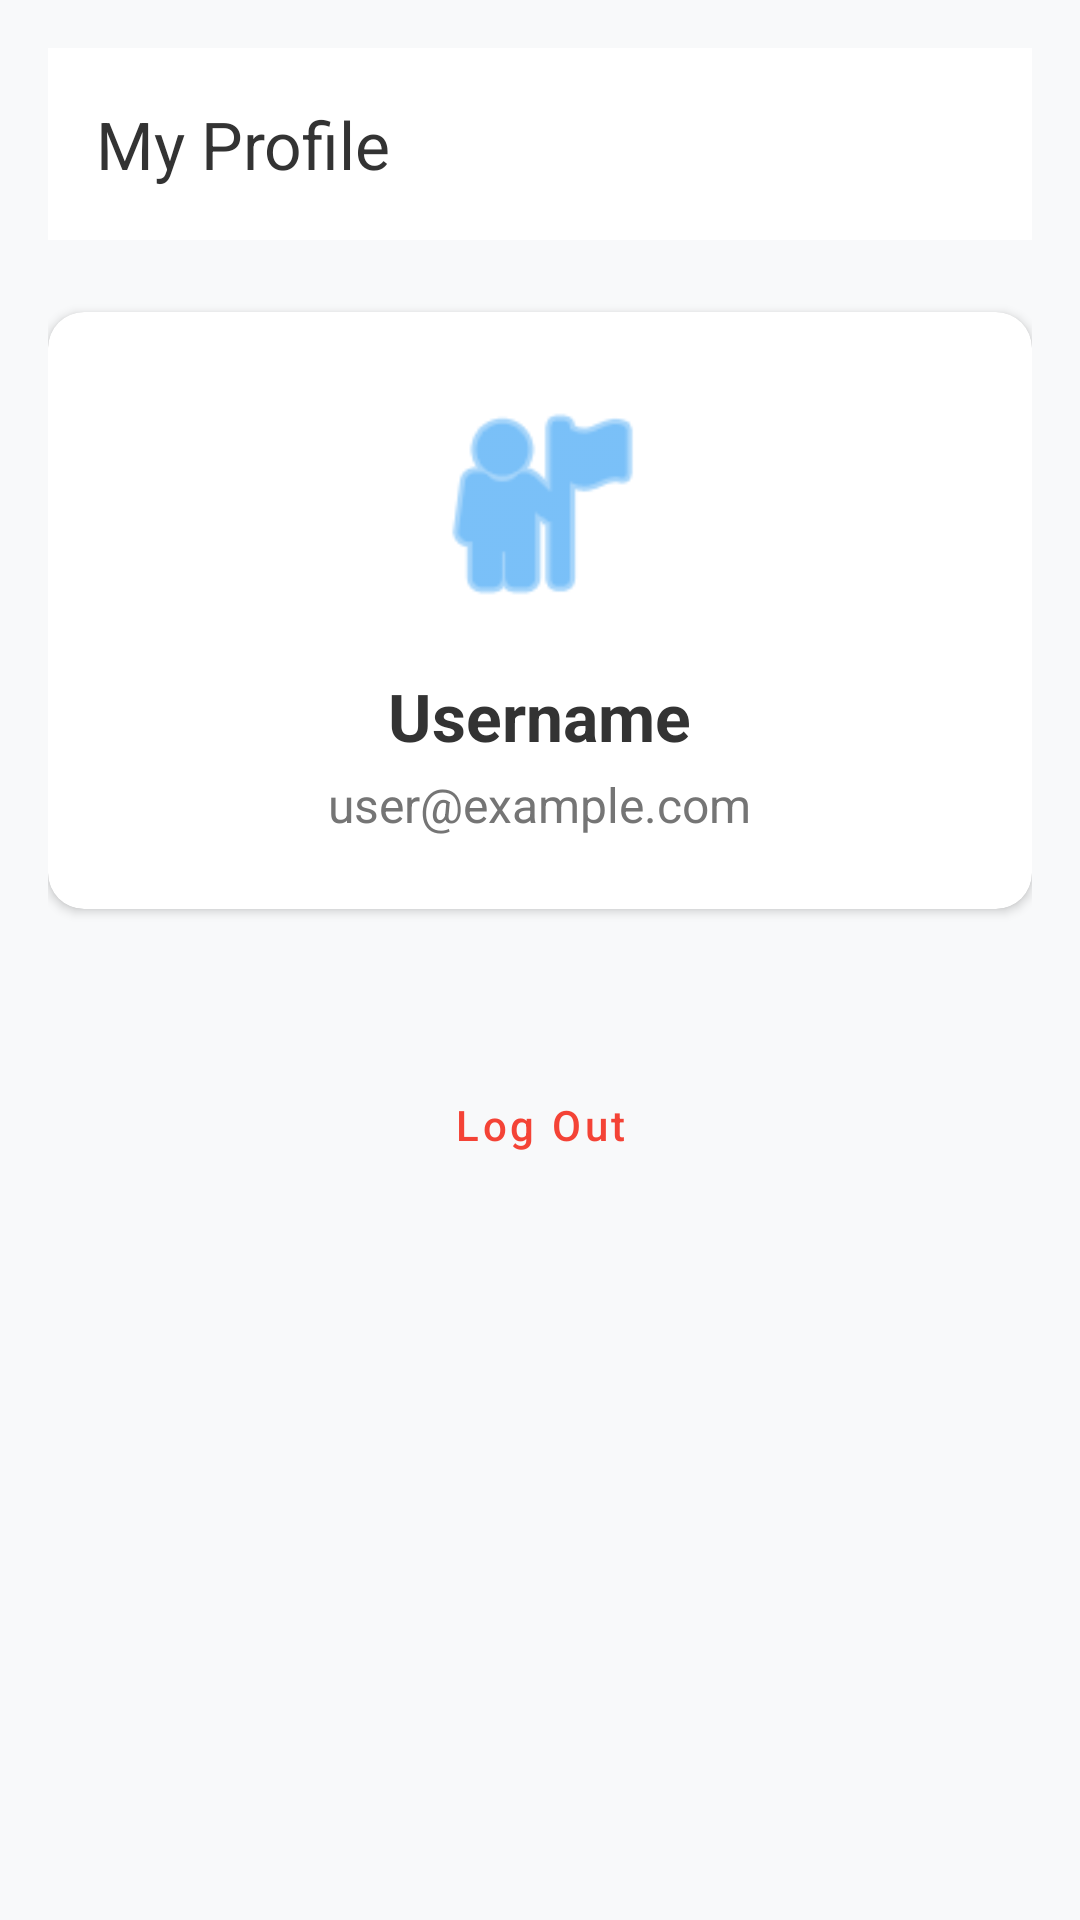

Icons on this 1080w x 1920h Android screen, each with its box as (x1, y1, x2, y2):
myplaces: (452, 414, 633, 594)
